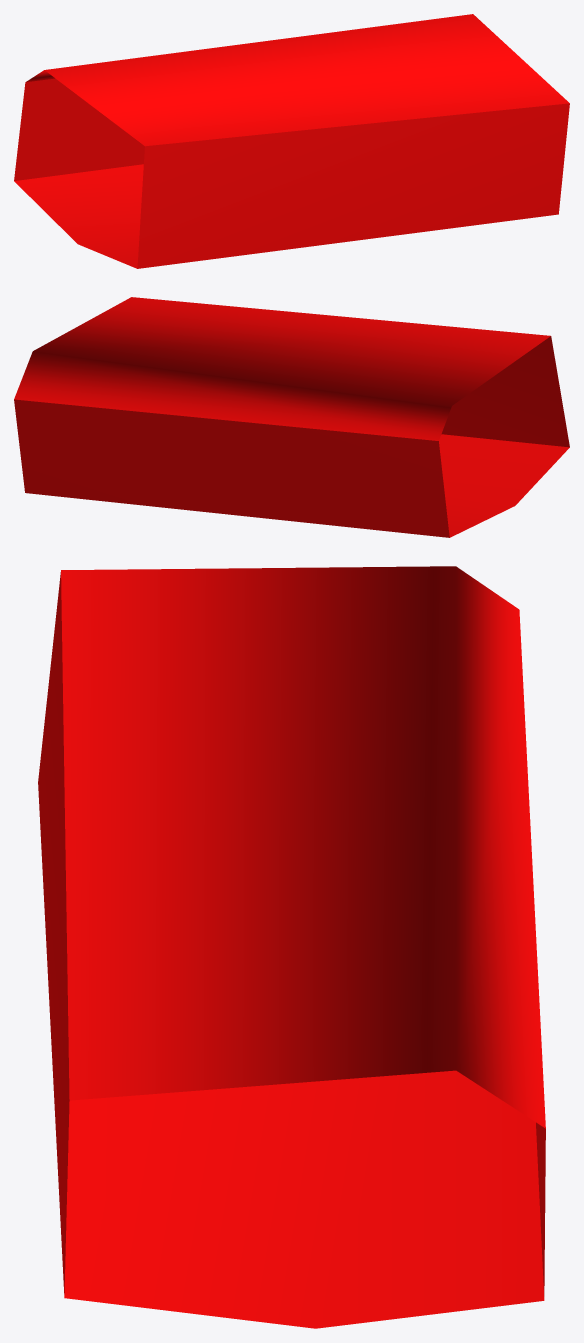
Rendered from original-40.obj.
3 views of the same model, one above another, from view 1: azimuth 30°, elevation 25°; view 2: azimuth 150°, elevation 25°; view 3: azimuth 270°, elevation 25° (orthographic). The views are drawn at different scales.
Parts seen in each view (by area): view 1: mesh40/mesh40-geometry#mesh40-geometry; view 2: mesh40/mesh40-geometry#mesh40-geometry; view 3: mesh40/mesh40-geometry#mesh40-geometry.
Boxes of the visible parts, box(x1,y1,x2,y2) form: mesh40/mesh40-geometry#mesh40-geometry: box(14, 14, 569, 268); mesh40/mesh40-geometry#mesh40-geometry: box(14, 297, 569, 537); mesh40/mesh40-geometry#mesh40-geometry: box(38, 566, 545, 1328).
Size of the model in its own units: 0.214 by 0.0869 by 0.1083.
